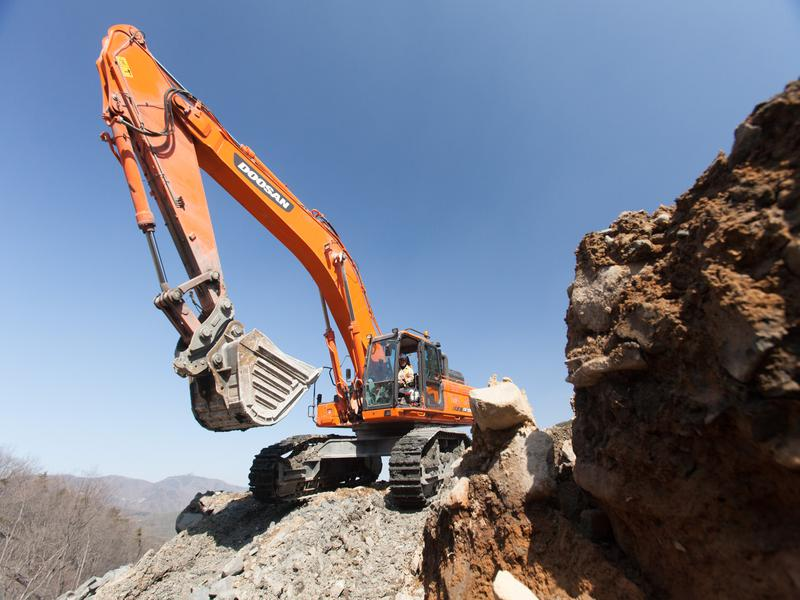shovel: (92, 19, 480, 512)
